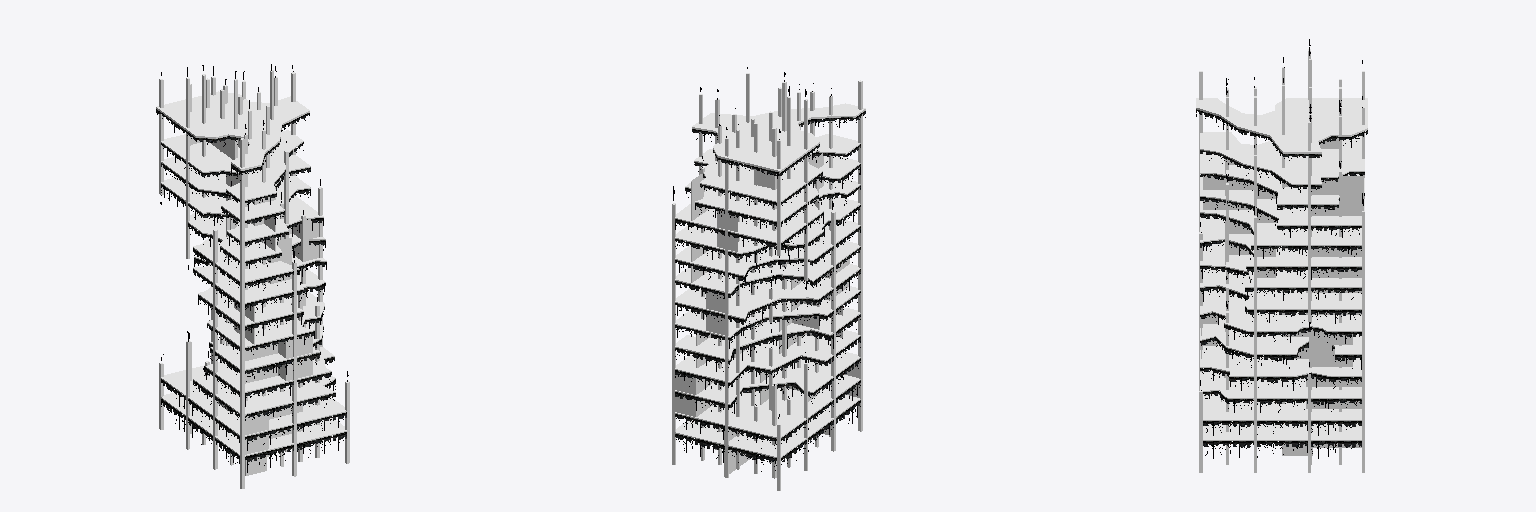
3 renders of one model, left to right at view 1: azimuth 30°, elevation 25°; view 2: azimuth 150°, elevation 25°; view 3: azimuth 270°, elevation 25°, orthographic.
Parts seen in each view (by area): view 1: bet_skelet, otrepy, wrak_steny; view 2: bet_skelet, otrepy, wrak_steny; view 3: bet_skelet, otrepy, wrak_steny.
Boxes of the visible parts, box(x1,y1,x2,y2) form: bet_skelet: box(156, 70, 349, 488); otrepy: box(156, 64, 348, 472); wrak_steny: box(192, 137, 318, 475); bet_skelet: box(672, 73, 865, 490); otrepy: box(673, 67, 865, 471); wrak_steny: box(675, 153, 857, 476); bet_skelet: box(1196, 49, 1367, 472); otrepy: box(1196, 39, 1367, 458); wrak_steny: box(1201, 138, 1363, 455).
Size of the model in its own units: 34.9 by 103 by 43.24.
4 materials, 1 textured.